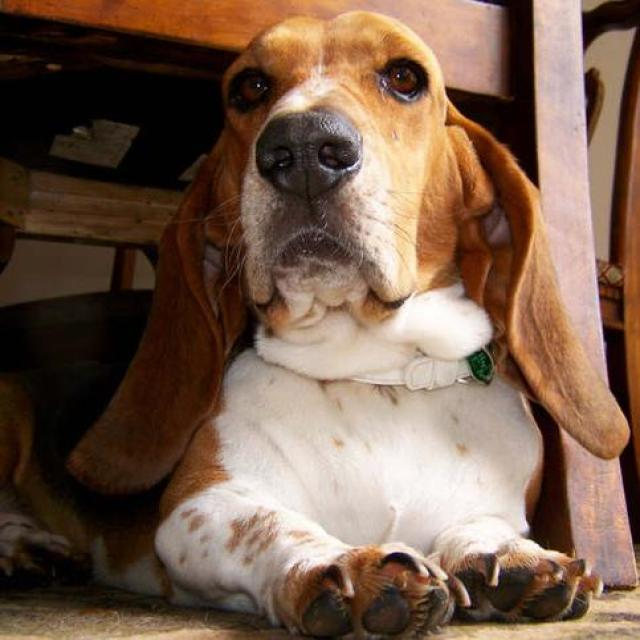basset: (1, 8, 631, 638)
